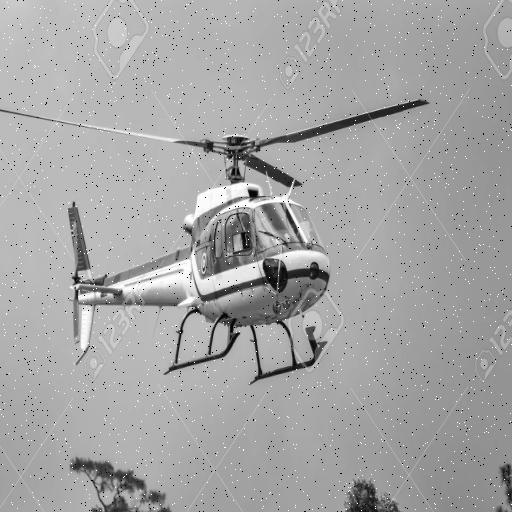helicopter: (1, 102, 421, 388)
